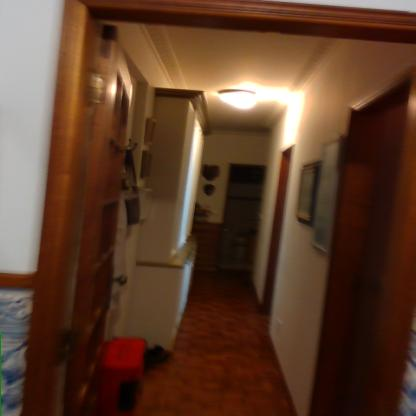open: (24, 2, 415, 416)
